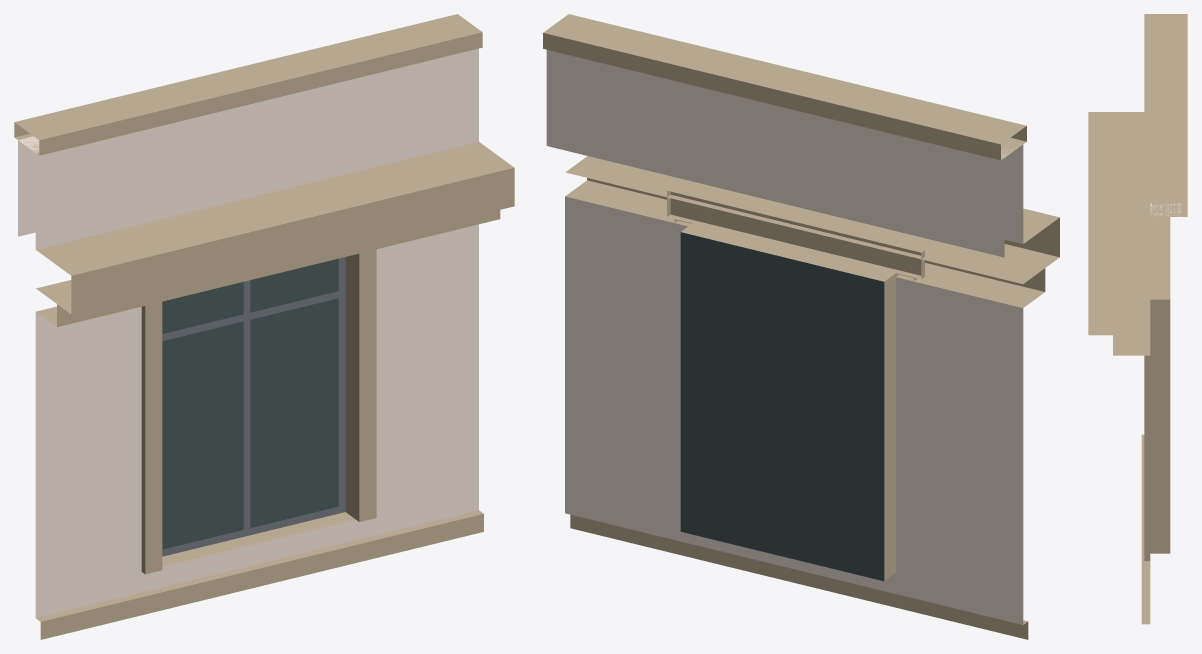
File: top-w1.fbx
The picture shows the model from 3 angles, left to right: view 1: azimuth 30°, elevation 25°; view 2: azimuth 150°, elevation 25°; view 3: azimuth 270°, elevation 25°; orthographic projection. The views are drawn at different scales.
Visible parts, largest first — view 1: a2019/250/top-w1; view 2: a2019/250/top-w1; view 3: a2019/250/top-w1.
Boxes of the visible parts, x1=… form: a2019/250/top-w1: x1=14, y1=14, x2=514, y2=639; a2019/250/top-w1: x1=543, y1=14, x2=1059, y2=639; a2019/250/top-w1: x1=1088, y1=14, x2=1187, y2=624.
Size of the model in its own units: 3.6 by 3.87 by 0.8.
